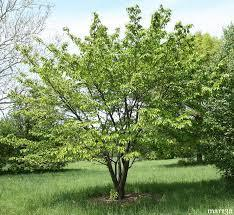tree: (6, 7, 218, 199)
